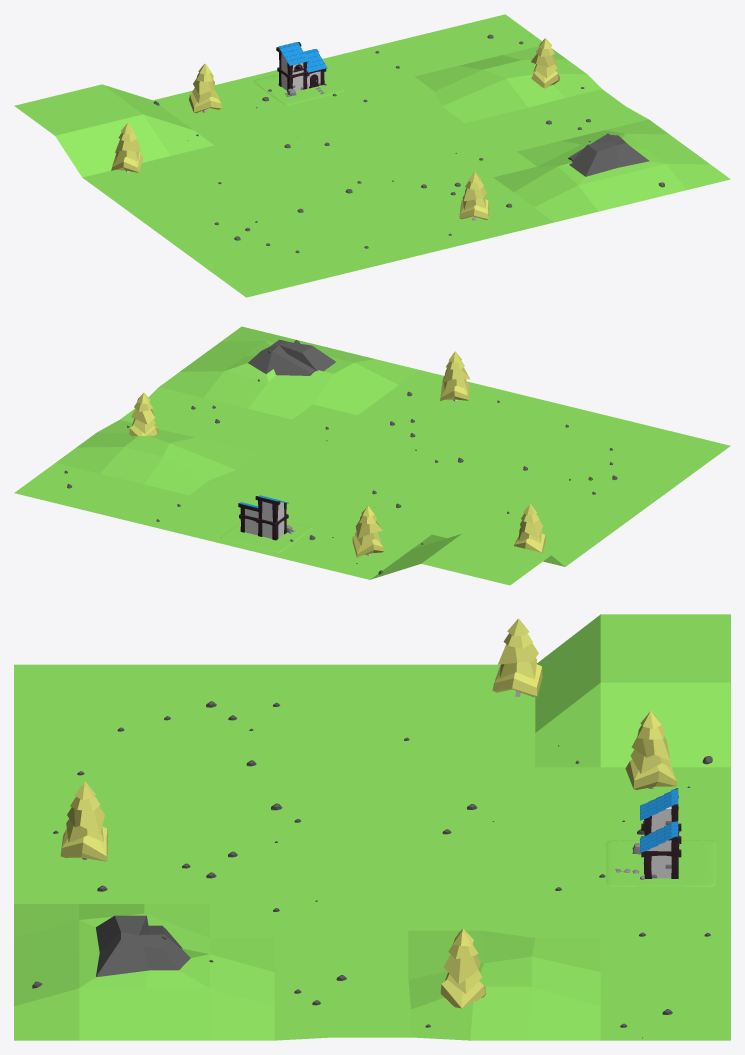
File: terrain.fbx
3 renders of one model, top to bottom at view 1: azimuth 30°, elevation 25°; view 2: azimuth 150°, elevation 25°; view 3: azimuth 270°, elevation 25°, orthographic. The views are drawn at different scales.
Visible parts, largest first — view 1: terrain, Door, Circle.003, Circle.004, Circle.001, Circle.002, stones; view 2: terrain, Door, Circle.004, Circle.001, Circle.003, Circle.002, stones; view 3: terrain, Door, Circle.001, Circle.004, Circle.003, Circle.002, stones.
Boxes of the visible parts, x1,y1,x2,y2 form: terrain: (14,14,730,297); Door: (253,42,344,105); Circle.003: (111,123,143,172); Circle.004: (189,63,221,113); Circle.001: (459,171,488,220); Circle.002: (531,38,559,88); stones: (153,34,664,253); terrain: (14,326,730,585); Door: (220,495,312,552); Circle.004: (352,505,384,557); Circle.001: (440,351,469,401); Circle.003: (514,504,545,552); Circle.002: (129,392,158,436); stones: (45,340,617,574); terrain: (14,614,730,1040); Door: (606,788,715,886); Circle.001: (60,782,107,861); Circle.004: (625,711,677,789); Circle.003: (492,618,542,697); Circle.002: (440,929,485,1008); stones: (32,701,712,1038).
Bounding box in the file's own units: 11970 × 1197 × 9516.
